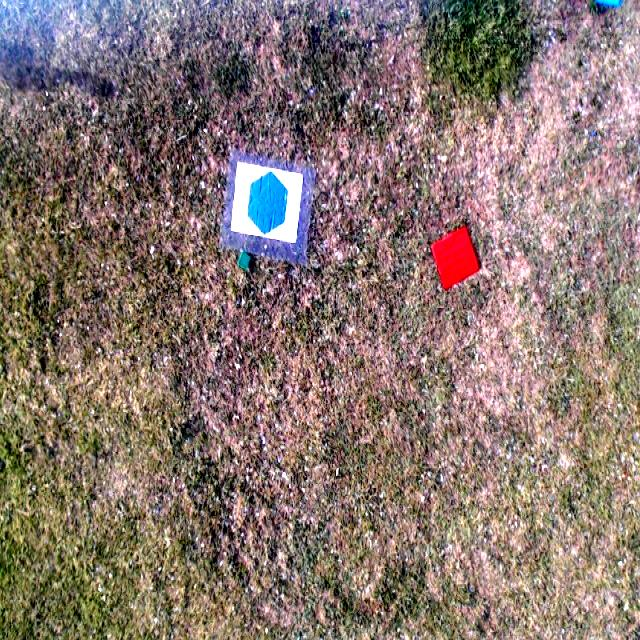blue_hexagon: (245, 171, 288, 234)
red_square: (431, 227, 482, 288)
